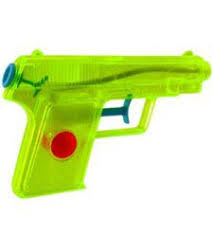Arma Falsa: (1, 47, 213, 197)
